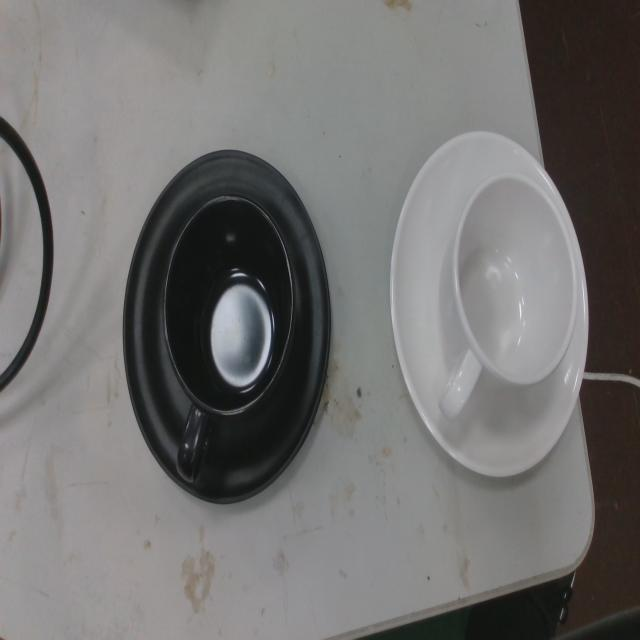black: (119, 142, 334, 511)
white: (386, 126, 592, 482)
